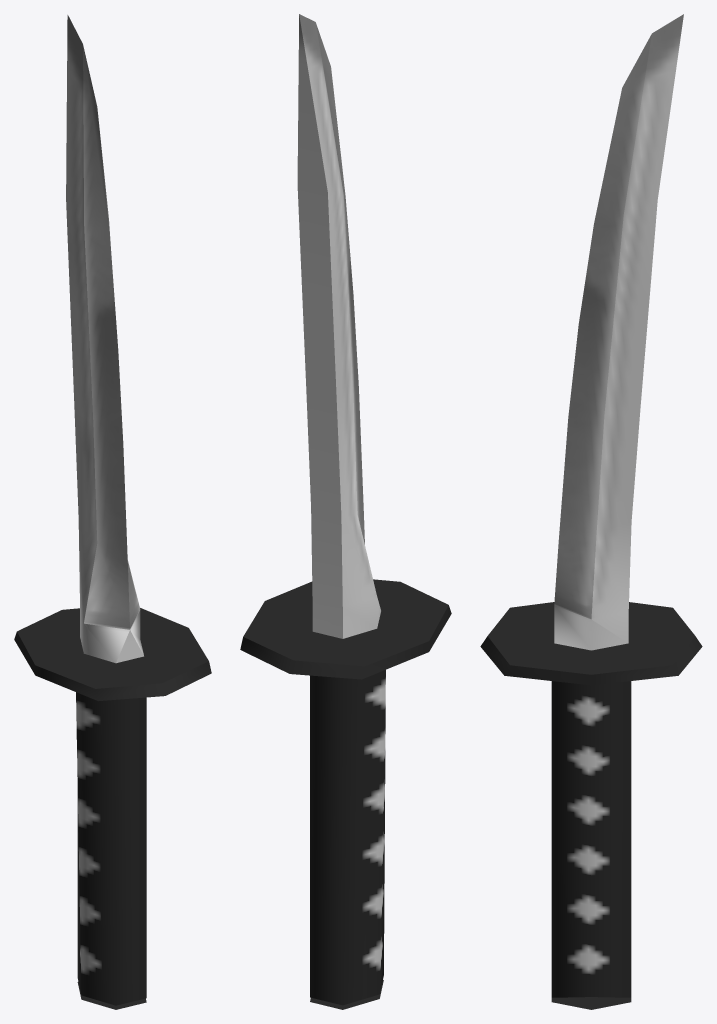
Rendered from TantoA.fbx.
3 renders of one model, left to right at view 1: azimuth 30°, elevation 25°; view 2: azimuth 150°, elevation 25°; view 3: azimuth 270°, elevation 25°, orthographic. The views are drawn at different scales.
Visible parts, largest first — view 1: node_2f9aac36_5747_4e4e_95cd_e76899a5701e_mesh0; view 2: node_2f9aac36_5747_4e4e_95cd_e76899a5701e_mesh0; view 3: node_2f9aac36_5747_4e4e_95cd_e76899a5701e_mesh0.
Boxes of the visible parts, bbox=[...] form: node_2f9aac36_5747_4e4e_95cd_e76899a5701e_mesh0: bbox=[14, 15, 211, 1009]; node_2f9aac36_5747_4e4e_95cd_e76899a5701e_mesh0: bbox=[240, 14, 451, 1009]; node_2f9aac36_5747_4e4e_95cd_e76899a5701e_mesh0: bbox=[480, 14, 702, 1009].
Bounding box in the file's own units: 0.0387 × 0.228 × 0.0468.
